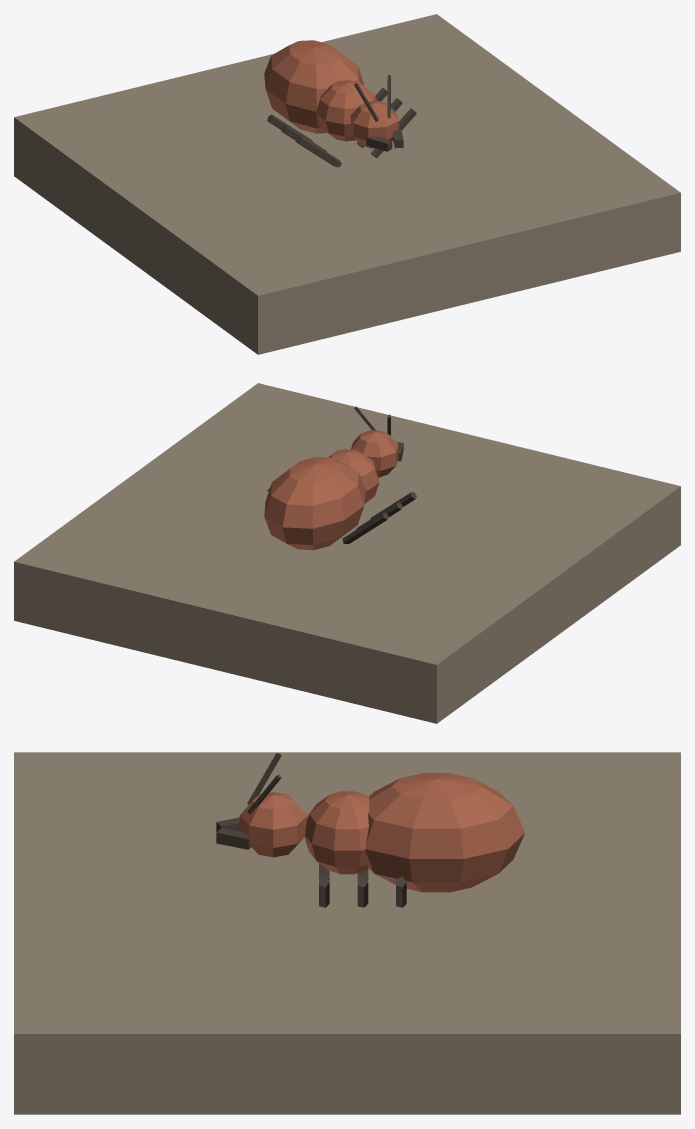
File: bug_soldier_ant.glb
The picture shows the model from 3 angles, top to bottom: view 1: azimuth 30°, elevation 25°; view 2: azimuth 150°, elevation 25°; view 3: azimuth 270°, elevation 25°; orthographic projection. The views are drawn at different scales.
Parts seen in each view (by area): view 1: Base, TurretMesh, HeadMesh; view 2: Base, TurretMesh, HeadMesh; view 3: Base, TurretMesh, HeadMesh.
Boxes of the visible parts, x1,y1,x2,y2 form: Base: [14, 14, 680, 354]; TurretMesh: [264, 40, 416, 167]; HeadMesh: [350, 75, 403, 151]; Base: [14, 383, 680, 723]; TurretMesh: [264, 449, 416, 550]; HeadMesh: [351, 406, 403, 477]; Base: [14, 752, 680, 1114]; TurretMesh: [304, 773, 525, 907]; HeadMesh: [216, 753, 307, 857].
Size of the model in its own units: 1.8 by 0.6249 by 1.8.
